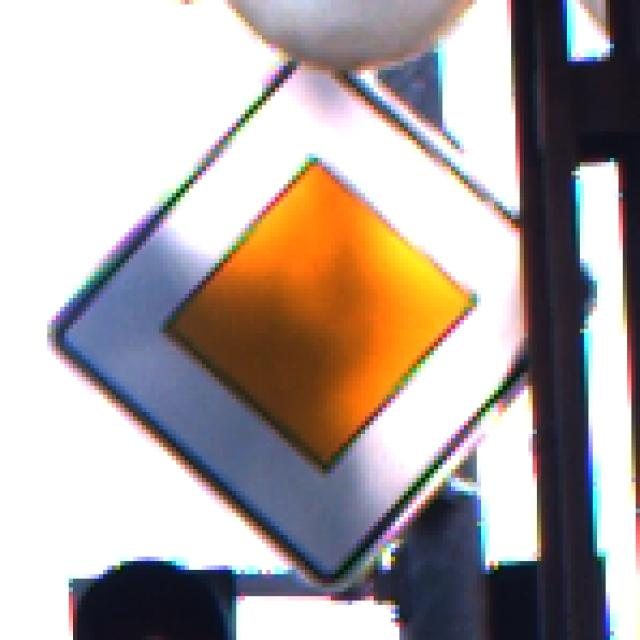Main Road: (57, 54, 589, 589)
